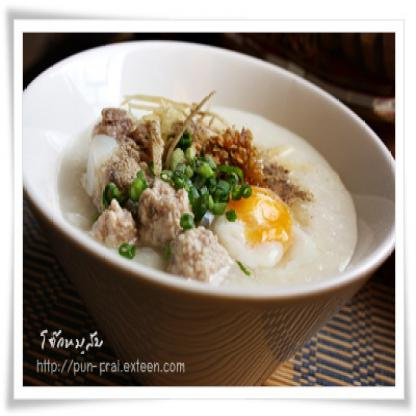Joke: (43, 62, 388, 321)
